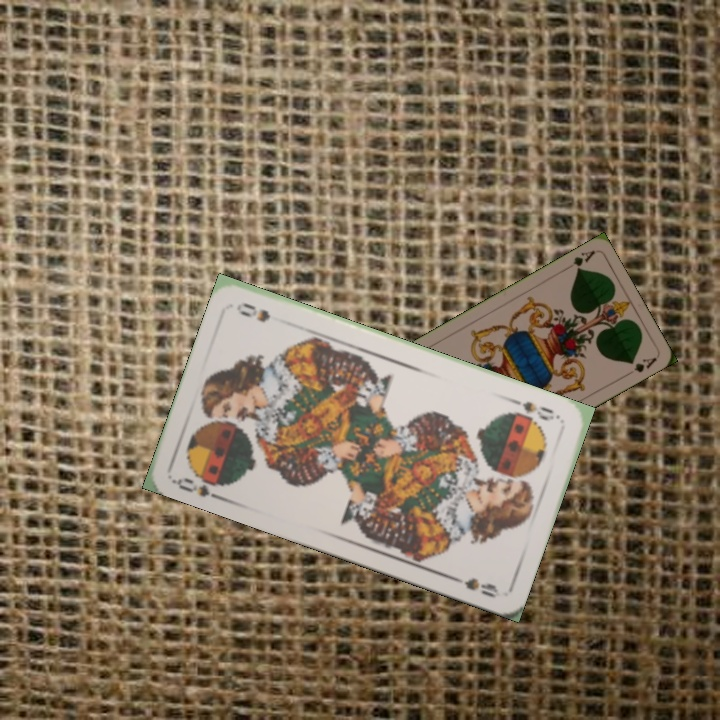GA: (560, 246, 597, 273)
SO: (170, 468, 232, 504), (507, 394, 563, 424)
